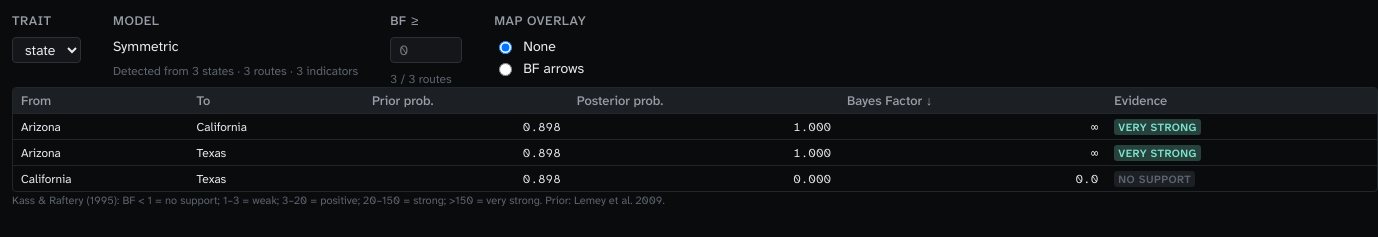
Test: DtaPanel › switching to host shows host routes and disables the map overlay
Select "host" in the dropdown with test id "dta-trait-select": (46, 50) [12,37,81,63]
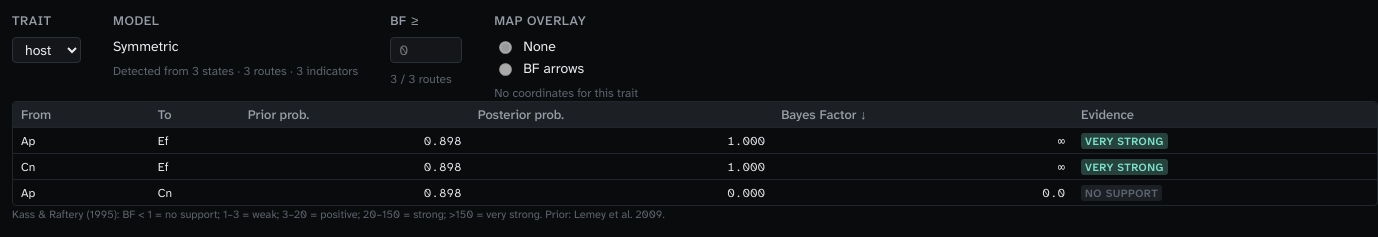
Now the radio button with test id "dta-overlay-bf" is disabled, box [499,63,512,76]
Now the radio button with test id "dta-overlay-none" is disabled, box [499,41,512,54]
Now the table with test id "dta-table" shows "Ap", box [21,132,35,148]
